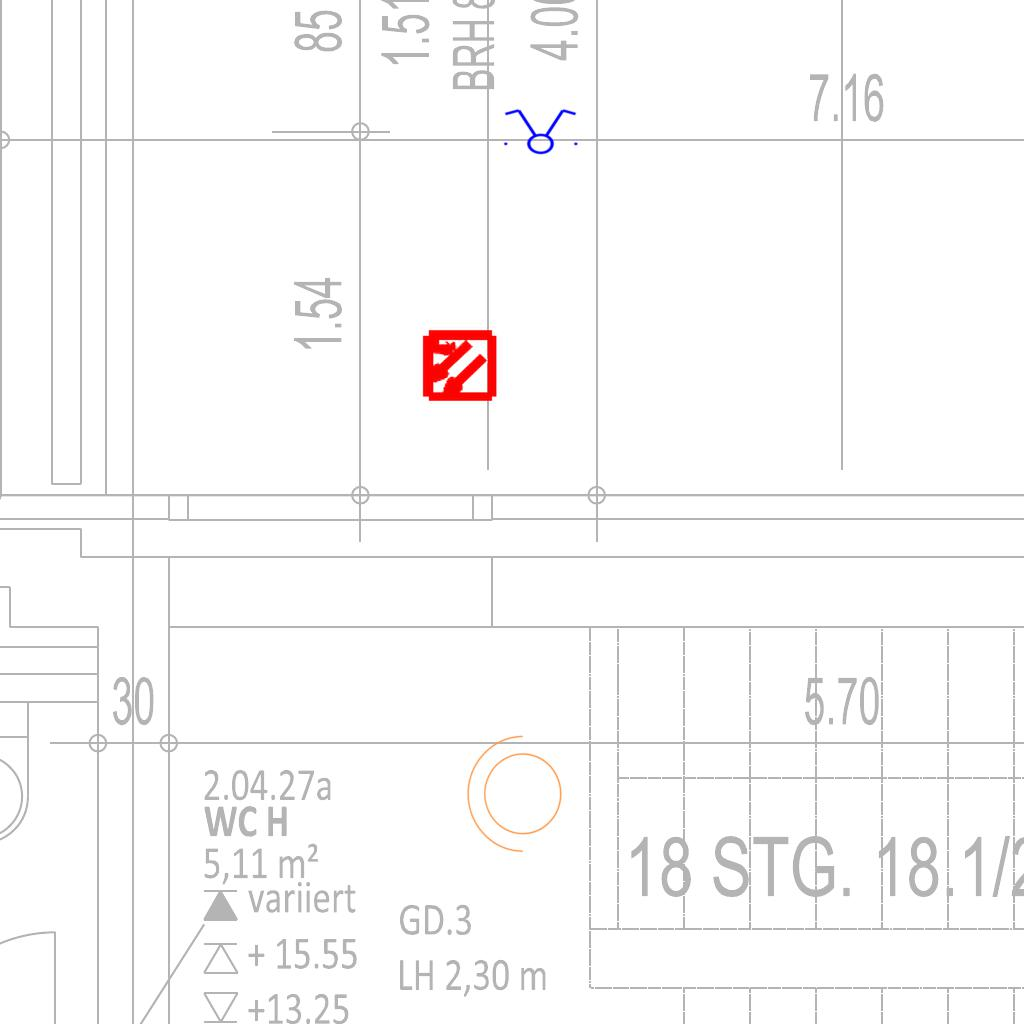OT_Multisensormelder_(Kombination_RMO_WMD): (401, 309, 514, 422)
Scheinwerfer_fuer_Alarmbeleuchtung: (462, 731, 574, 863)
Serienschalter: (498, 107, 582, 155)
